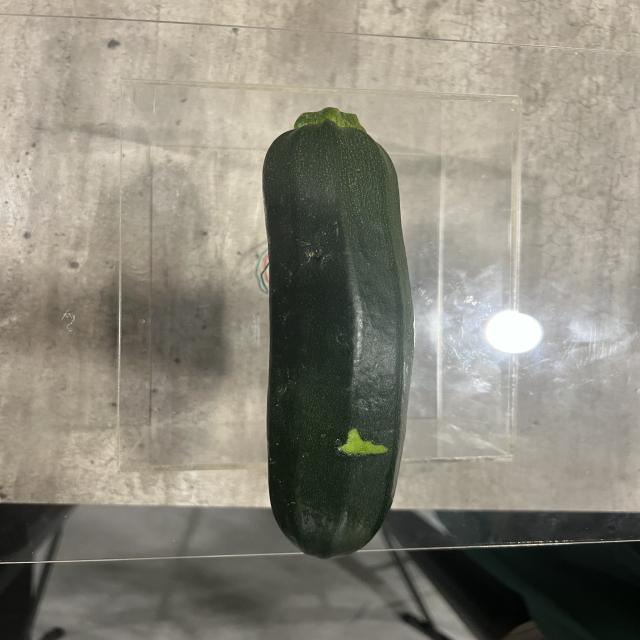zucchini: (259, 106, 415, 556)
